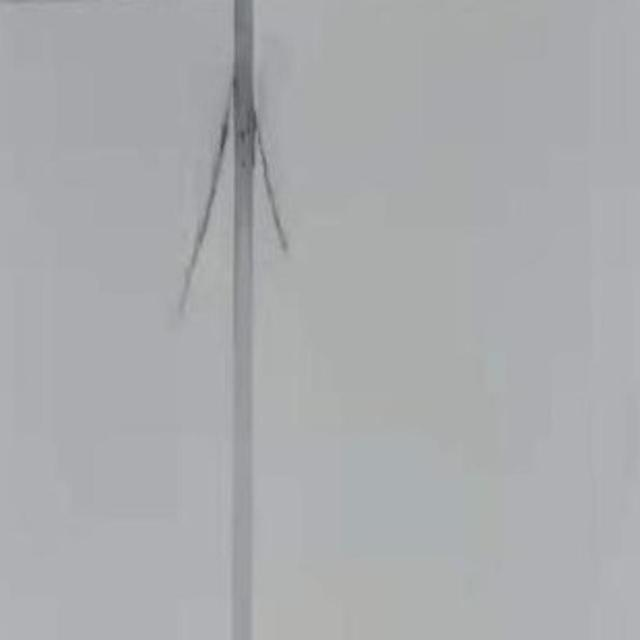crack: (182, 98, 232, 312), (254, 120, 289, 258)
